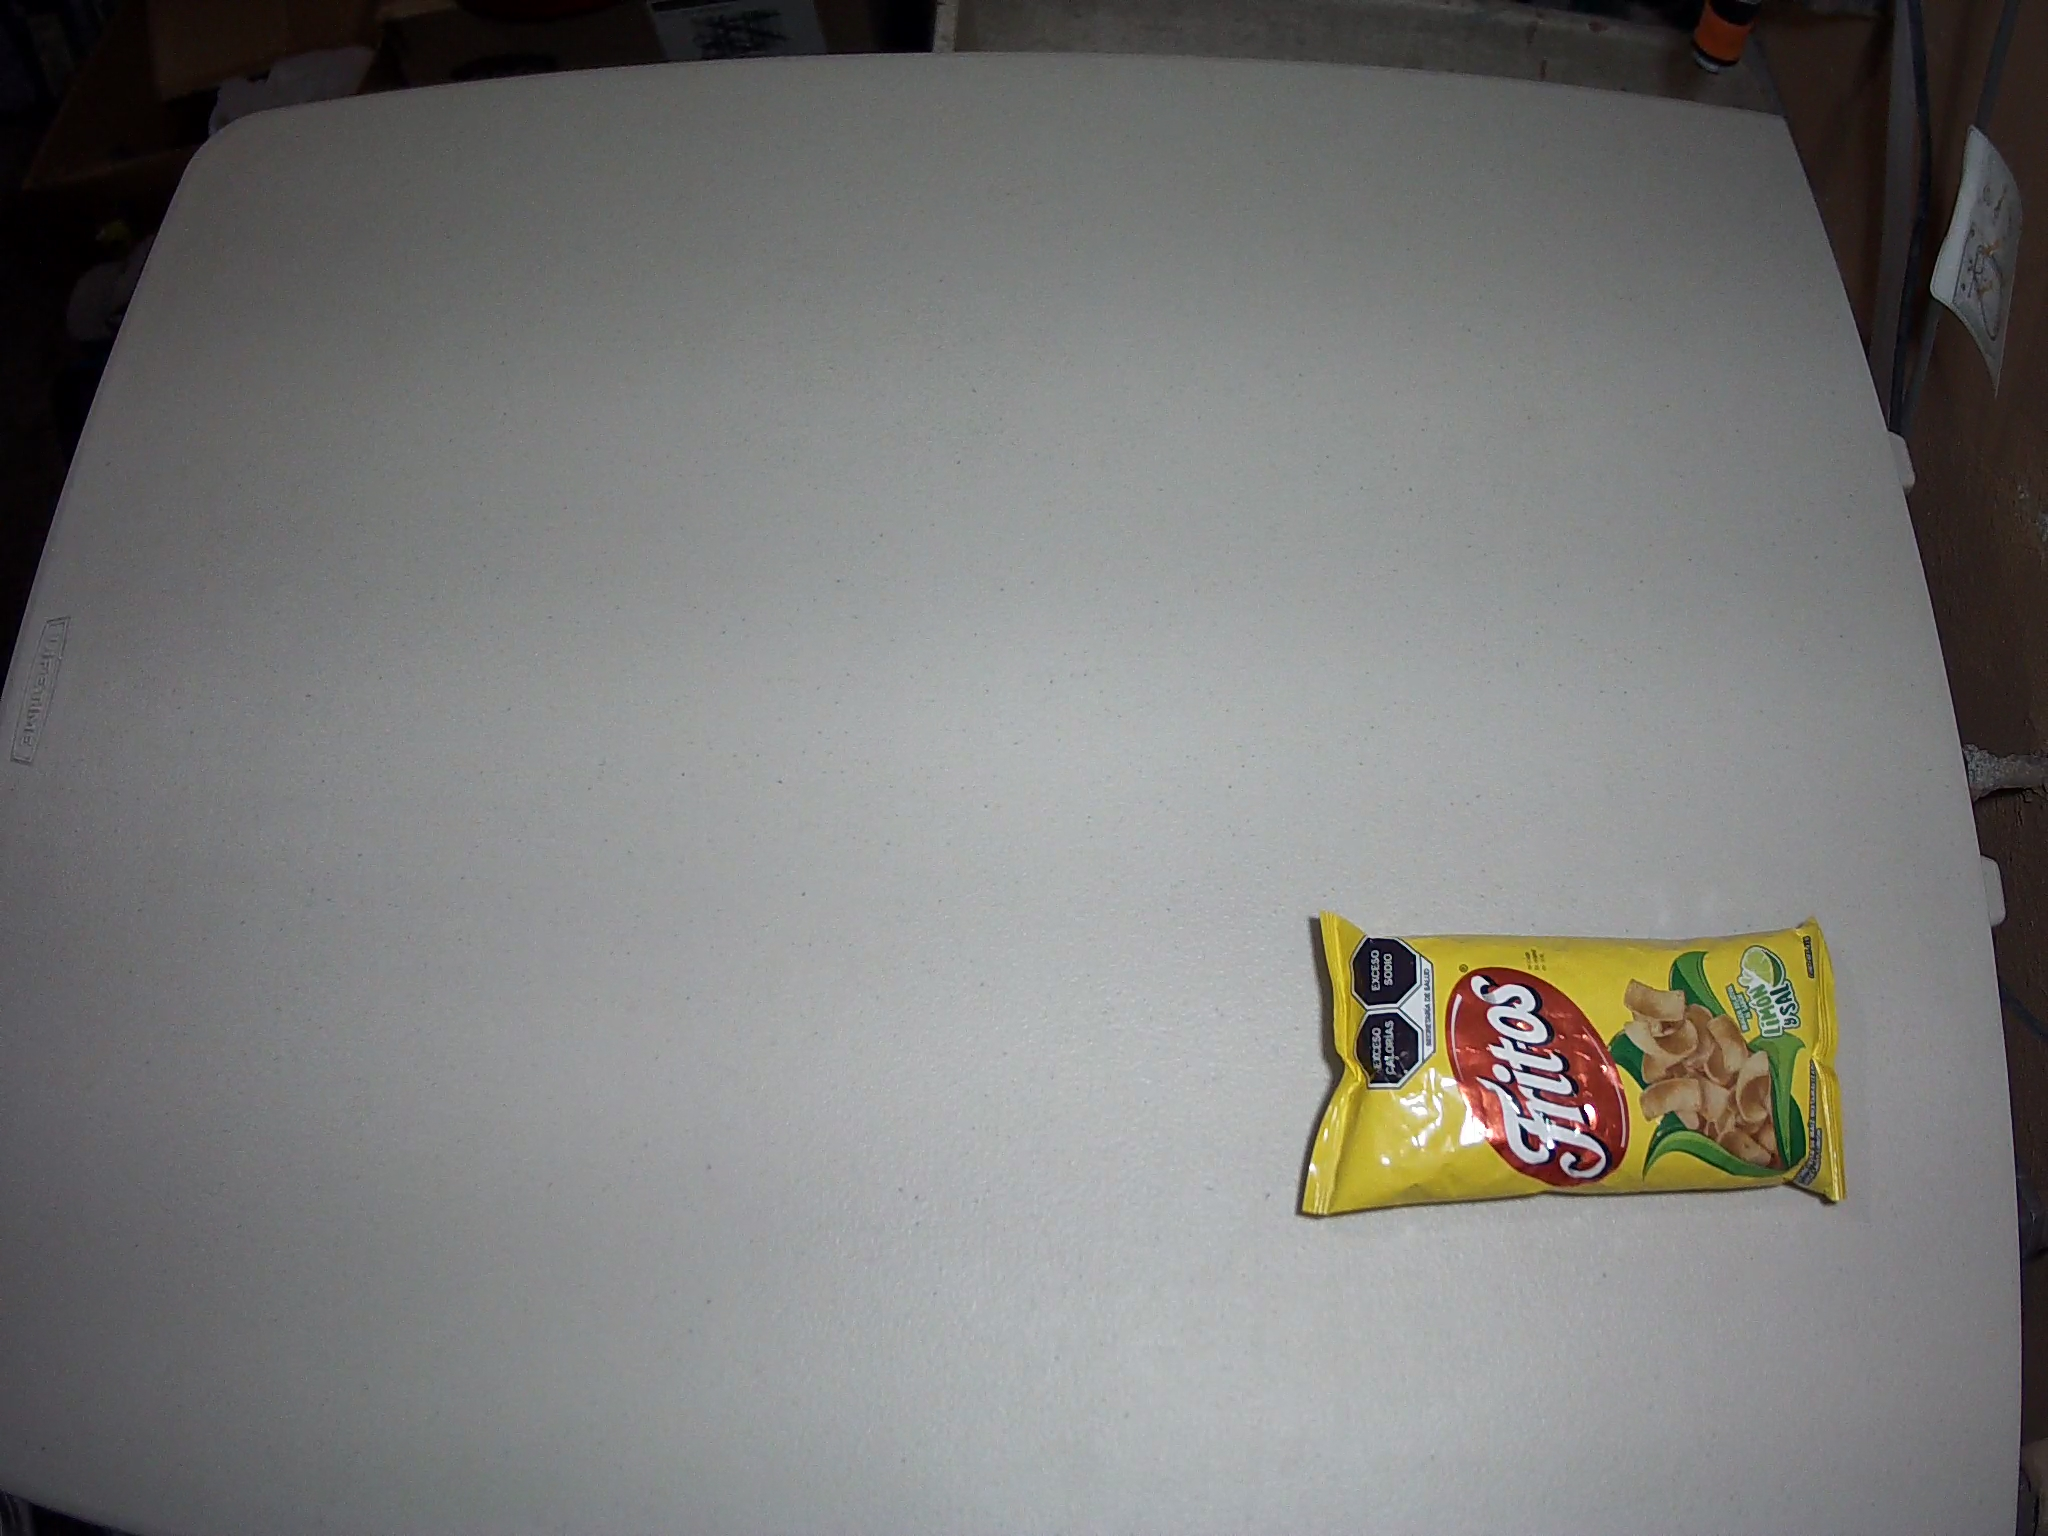FritosSalLimon_65_F: (1297, 912, 1851, 1220)
